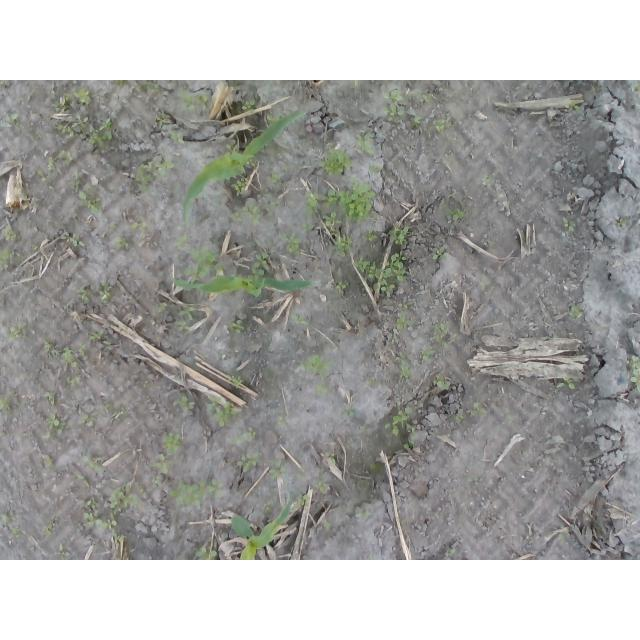Maize: (181, 109, 307, 227), (231, 498, 294, 560), (173, 272, 319, 297)
Weeds: (326, 178, 378, 223), (353, 257, 395, 298), (184, 248, 223, 285), (71, 172, 102, 212), (167, 479, 205, 508), (318, 147, 354, 177), (87, 118, 121, 149), (207, 397, 239, 428), (382, 87, 407, 122), (110, 485, 139, 514), (297, 355, 333, 378), (384, 406, 412, 435), (56, 115, 89, 138), (83, 500, 108, 529), (179, 90, 210, 111), (49, 84, 71, 112), (304, 190, 327, 216), (248, 252, 270, 278), (45, 415, 66, 441), (136, 160, 153, 192), (356, 132, 377, 157), (391, 254, 409, 283), (323, 213, 342, 239), (281, 231, 301, 255), (628, 354, 640, 394), (433, 323, 452, 348), (56, 345, 77, 367), (237, 452, 259, 473), (332, 235, 352, 258), (396, 351, 413, 378), (162, 433, 182, 455), (155, 157, 174, 180), (243, 203, 262, 226), (387, 227, 410, 246), (82, 455, 104, 474), (231, 176, 250, 197), (175, 395, 197, 413), (59, 232, 85, 247), (155, 454, 174, 474), (89, 328, 112, 344), (0, 111, 20, 129), (74, 88, 94, 106), (103, 402, 125, 418), (98, 281, 114, 303), (139, 81, 162, 96), (267, 461, 285, 480), (8, 322, 27, 340), (433, 115, 451, 134), (206, 478, 222, 499), (104, 519, 121, 538), (1, 250, 16, 270), (195, 548, 218, 561), (178, 303, 194, 321), (396, 313, 414, 329), (411, 90, 431, 104), (556, 375, 576, 389), (79, 411, 98, 425), (335, 404, 354, 418), (295, 493, 310, 510), (114, 236, 131, 251), (240, 99, 257, 114), (445, 208, 465, 220), (168, 130, 185, 144), (230, 319, 247, 333), (2, 227, 19, 241), (156, 110, 169, 128), (59, 150, 74, 165), (226, 375, 242, 389), (58, 544, 71, 561), (362, 229, 379, 242), (266, 114, 283, 127), (448, 191, 463, 205), (561, 217, 575, 232), (434, 376, 449, 390), (265, 200, 280, 214), (422, 344, 435, 360), (314, 480, 331, 492), (290, 314, 308, 325), (77, 289, 91, 303), (569, 305, 583, 319), (316, 381, 329, 396), (266, 172, 282, 184), (130, 221, 147, 232), (173, 235, 187, 248), (471, 403, 485, 416), (302, 219, 314, 234), (479, 277, 491, 292), (247, 426, 258, 442), (397, 299, 414, 309), (432, 248, 446, 260), (67, 376, 82, 387), (411, 115, 422, 130), (43, 523, 54, 537), (326, 451, 337, 465), (177, 321, 192, 331), (565, 101, 580, 111), (367, 377, 382, 387), (44, 390, 56, 402), (224, 143, 236, 155), (297, 466, 308, 479), (232, 434, 245, 445), (43, 453, 53, 467), (213, 195, 223, 209), (406, 424, 416, 437), (482, 173, 491, 187), (336, 281, 347, 292), (42, 340, 52, 352), (78, 343, 86, 358), (230, 211, 242, 221), (38, 169, 47, 182), (355, 511, 371, 518), (48, 156, 56, 170), (157, 302, 168, 312), (443, 154, 454, 164), (246, 157, 257, 167), (2, 512, 11, 524), (0, 397, 8, 410), (368, 165, 381, 173), (276, 415, 286, 425), (404, 440, 415, 449), (12, 526, 20, 538), (438, 198, 446, 210), (617, 218, 627, 227), (324, 519, 332, 529), (0, 80, 10, 88), (445, 548, 455, 556), (391, 332, 397, 345), (262, 502, 271, 510), (455, 414, 464, 422), (151, 477, 161, 484), (76, 474, 86, 480), (466, 477, 478, 482), (482, 241, 494, 246), (109, 224, 116, 232), (282, 165, 291, 171), (634, 82, 640, 90), (116, 80, 124, 86), (359, 424, 365, 432), (354, 81, 360, 88)
